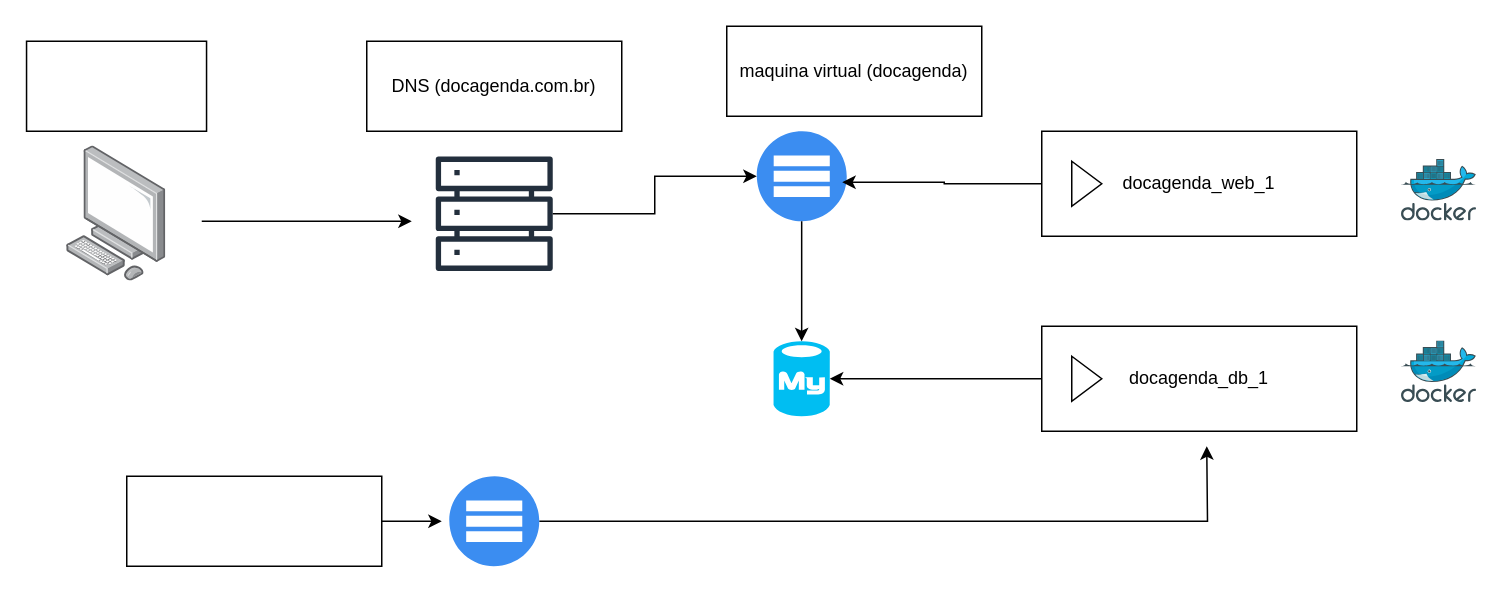
This 1503x593 diagram has some shape labels left out. Each missing label, with the centre of its shape:
Estação cliente: the point at 116,85
maquina virtual (docdb): the point at 253,520
